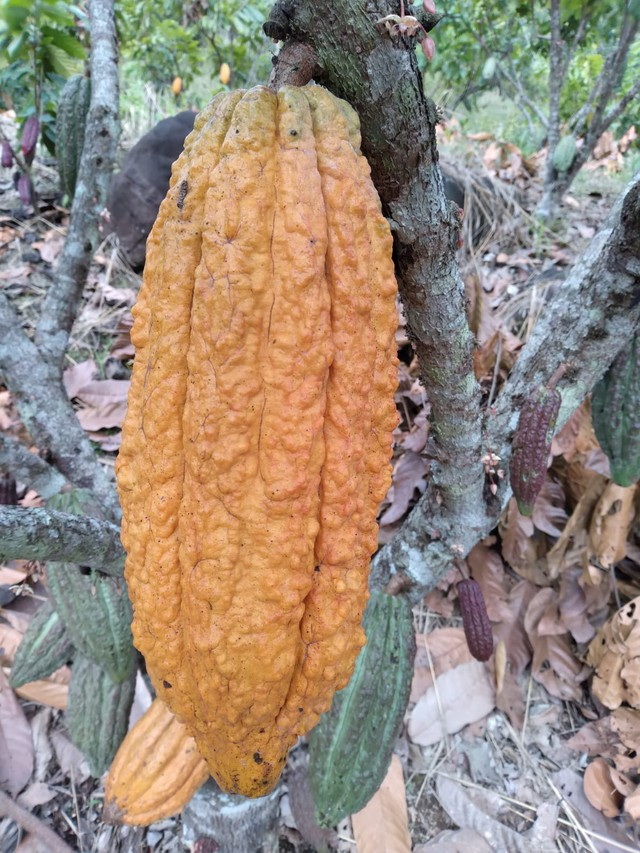Health: (110, 73, 415, 806)
